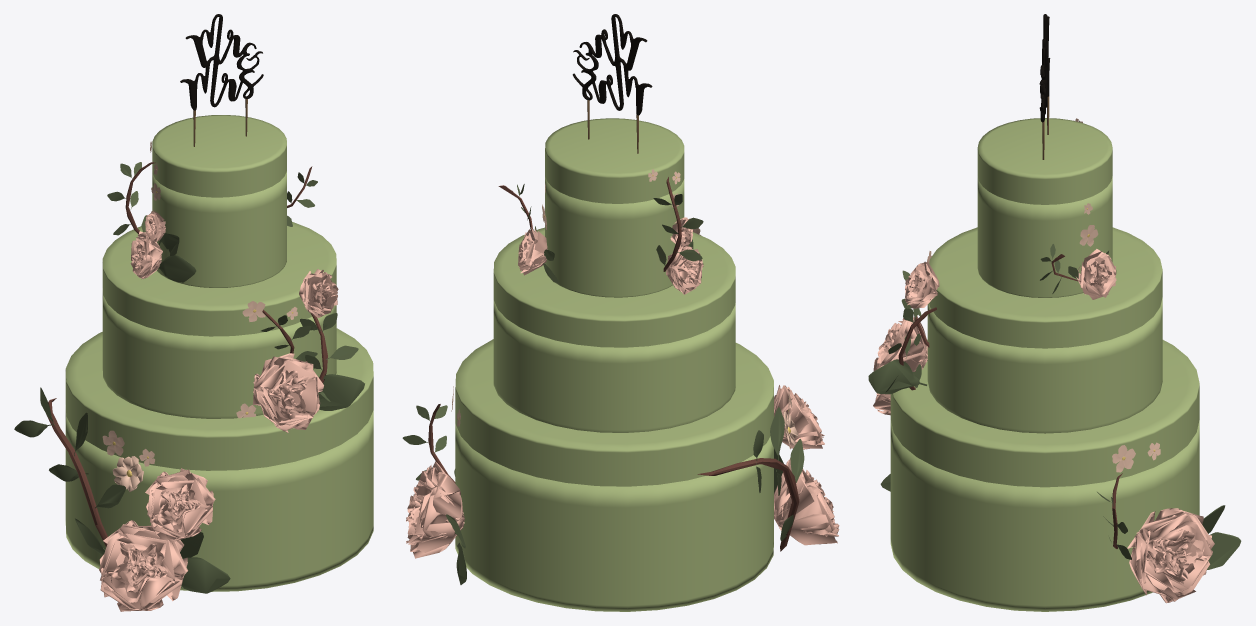
The model's file is 3-tier-pistage-roses-mrms.glb.
3 renders of one model, left to right at view 1: azimuth 30°, elevation 25°; view 2: azimuth 150°, elevation 25°; view 3: azimuth 270°, elevation 25°, orthographic. The views are drawn at different scales.
Visible parts, largest first — view 1: Cylinder.022, Cylinder.014, Cylinder.021, grid.042, grid.044, grid.040, Plane.093, mrms.003, grid.043, Plane.087, Plane.091, Plane.095 (+6 smaller); view 2: Cylinder.022, Cylinder.014, Cylinder.021, grid.029, grid.042, mrms.003, Plane.093, grid.040, grid.045, Plane.092, grid.047, Plane.084; view 3: Cylinder.022, Cylinder.014, Cylinder.021, grid.029, grid.044, grid.047, Plane.087, grid.043, mrms.003, Plane.095, Plane.082, Plane.084.
Boxes of the visible parts, x1=… form: Cylinder.022: x1=65, y1=328, x2=373, y2=591; Cylinder.014: x1=102, y1=222, x2=336, y2=418; Cylinder.021: x1=152, y1=115, x2=286, y2=287; grid.042: x1=99, y1=520, x2=187, y2=611; grid.044: x1=253, y1=353, x2=323, y2=432; grid.040: x1=145, y1=468, x2=215, y2=542; Plane.093: x1=14, y1=387, x2=125, y2=555; mrms.003: x1=180, y1=14, x2=263, y2=146; grid.043: x1=299, y1=269, x2=338, y2=317; Plane.087: x1=318, y1=374, x2=364, y2=410; Plane.091: x1=181, y1=557, x2=230, y2=593; Plane.095: x1=300, y1=313, x2=358, y2=401; Cylinder.022: x1=455, y1=339, x2=773, y2=611; Cylinder.014: x1=493, y1=227, x2=735, y2=432; Cylinder.021: x1=545, y1=118, x2=684, y2=297; grid.029: x1=406, y1=461, x2=464, y2=558; grid.042: x1=774, y1=458, x2=839, y2=545; mrms.003: x1=572, y1=14, x2=652, y2=153; Plane.093: x1=697, y1=407, x2=804, y2=551; grid.040: x1=774, y1=385, x2=824, y2=449; grid.045: x1=666, y1=246, x2=703, y2=294; Plane.092: x1=653, y1=177, x2=703, y2=271; grid.047: x1=518, y1=228, x2=547, y2=275; Plane.084: x1=402, y1=404, x2=455, y2=483; Cylinder.022: x1=890, y1=339, x2=1199, y2=611; Cylinder.014: x1=927, y1=227, x2=1162, y2=433; Cylinder.021: x1=977, y1=118, x2=1112, y2=297; grid.029: x1=1127, y1=508, x2=1214, y2=603; grid.044: x1=873, y1=316, x2=927, y2=371; grid.047: x1=1076, y1=249, x2=1116, y2=299; Plane.087: x1=868, y1=359, x2=926, y2=394; grid.043: x1=905, y1=261, x2=939, y2=308; mrms.003: x1=1039, y1=14, x2=1050, y2=159; Plane.095: x1=885, y1=307, x2=936, y2=392; Plane.082: x1=1207, y1=532, x2=1241, y2=569; Plane.084: x1=1097, y1=473, x2=1131, y2=559.
Size of the model in its own units: 5.28 by 7.71 by 4.9.
